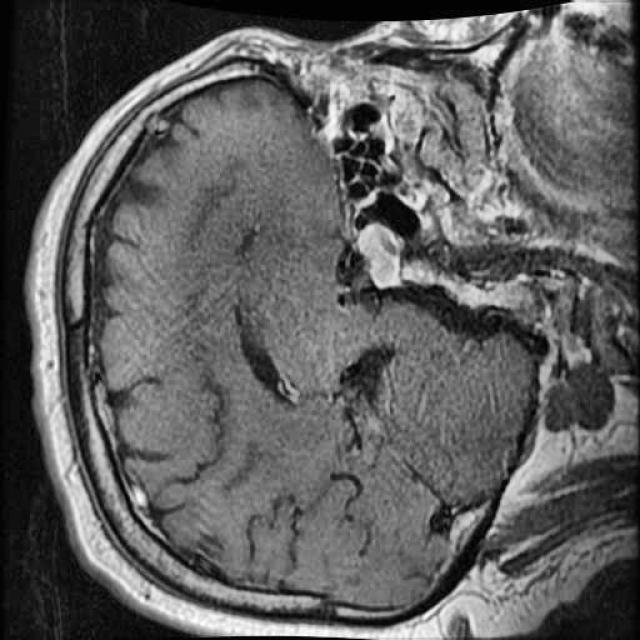Tumor: (341, 208, 418, 300)
